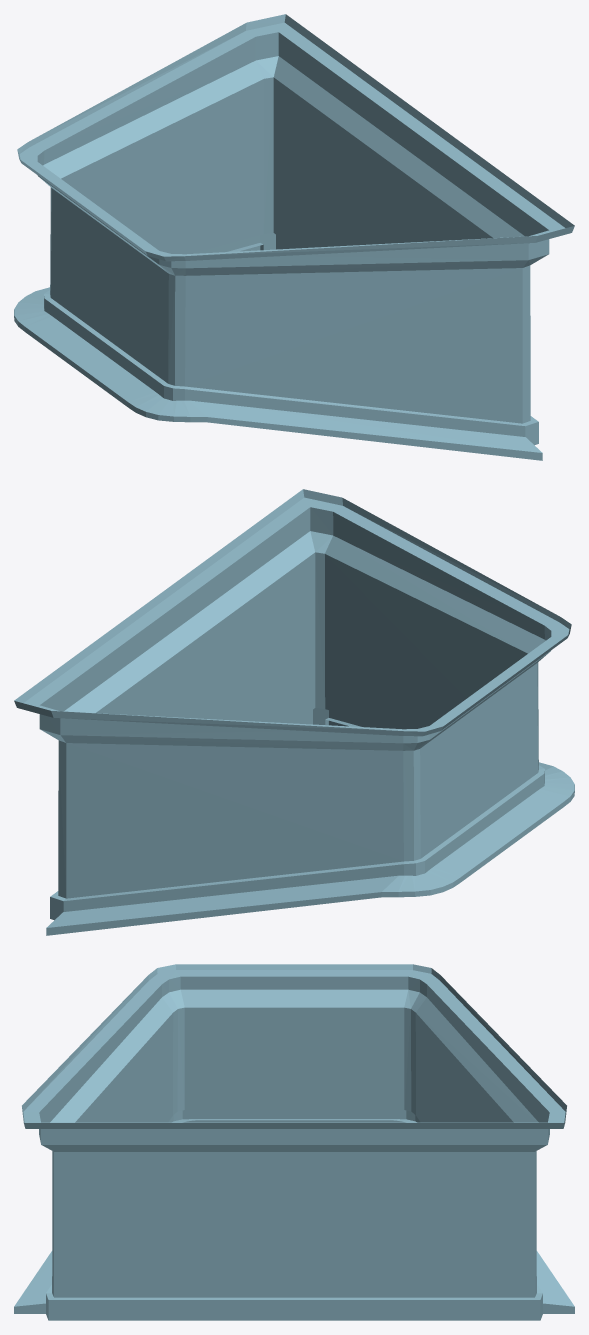
Rendered from BC_Collider_Csd_QiangMian_1.FBX.
3 views of the same model, one above another, from view 1: azimuth 30°, elevation 25°; view 2: azimuth 150°, elevation 25°; view 3: azimuth 270°, elevation 25° (orthographic). The views are drawn at different scales.
Parts seen in each view (by area): view 1: BC_Collider_Csd_QiangMian_1; view 2: BC_Collider_Csd_QiangMian_1; view 3: BC_Collider_Csd_QiangMian_1.
Part boxes in pixels (box(x1,y1,x2,y2)): BC_Collider_Csd_QiangMian_1: box(14, 14, 574, 460); BC_Collider_Csd_QiangMian_1: box(14, 489, 574, 935); BC_Collider_Csd_QiangMian_1: box(14, 964, 574, 1320).
Bounding box in the file's own units: 16.43 × 9.87 × 24.11.
